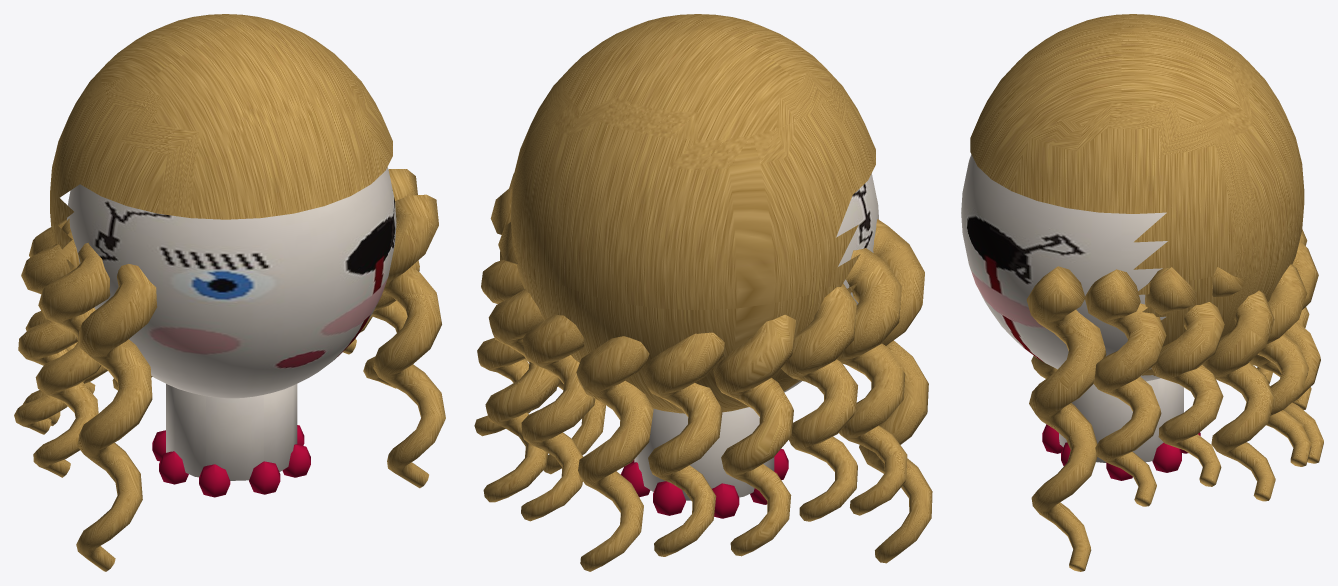
Rendered from 割れた人形の頭_bisque.glb.
3 renders of one model, left to right at view 1: azimuth 30°, elevation 25°; view 2: azimuth 150°, elevation 25°; view 3: azimuth 270°, elevation 25°, orthographic. The views are drawn at different scales.
Visible parts, largest first — view 1: bisque; view 2: bisque; view 3: bisque.
Part boxes in pixels (box(x1,y1,x2,y2)): bisque: box(14, 14, 445, 571); bisque: box(474, 14, 932, 571); bisque: box(961, 14, 1323, 571).
Size of the model in its own units: 0.147 by 0.1786 by 0.1244.
3 materials, 2 textured.
